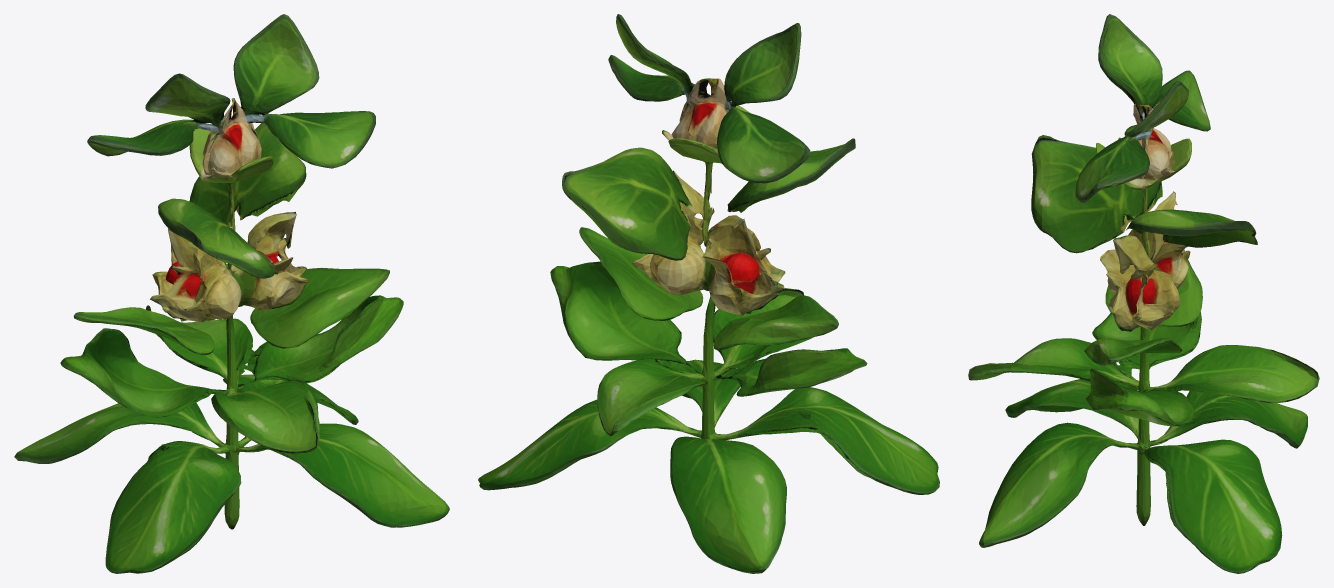
The model's file is ashwagandha.glb.
The picture shows the model from 3 angles, left to right: view 1: azimuth 30°, elevation 25°; view 2: azimuth 150°, elevation 25°; view 3: azimuth 270°, elevation 25°; orthographic projection. The views are drawn at different scales.
Parts seen in each view (by area): view 1: world; view 2: world; view 3: world.
Boxes of the visible parts, x1,y1,x2,y2 form: world: [14, 14, 449, 573]; world: [478, 14, 939, 573]; world: [968, 14, 1319, 573].
Size of the model in its own units: 0.7372 by 0.995 by 0.6631.
Materials: 1 (1 with a texture image).
